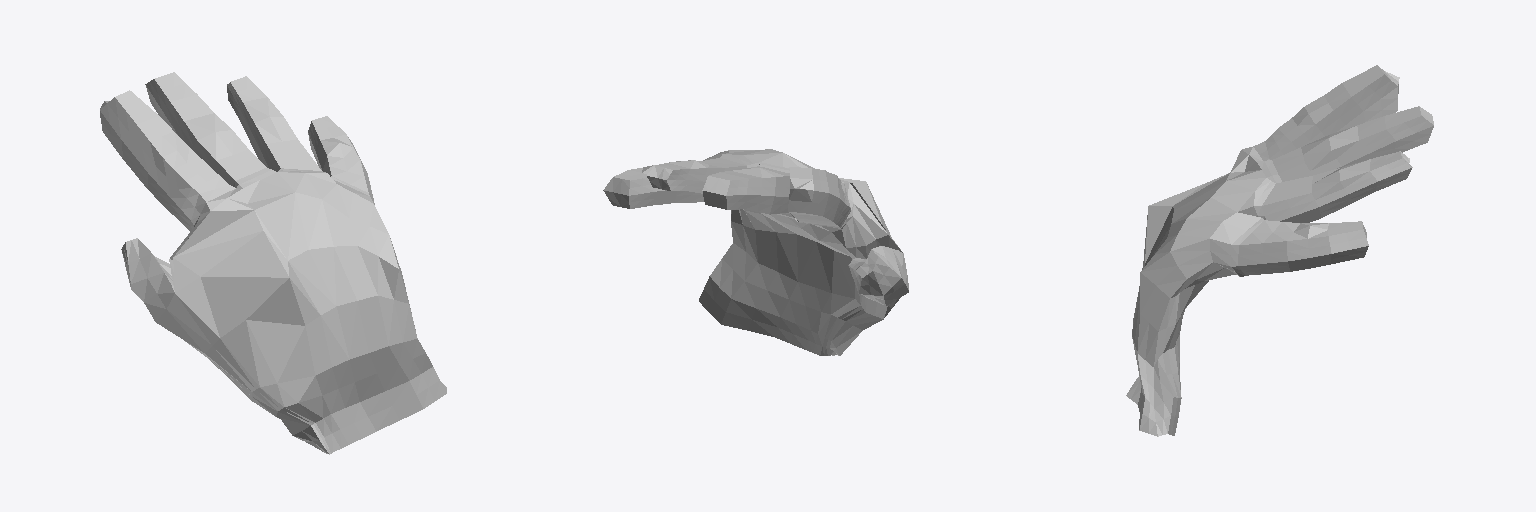
File: flexion0031.obj
The picture shows the model from 3 angles: view 1: azimuth 30°, elevation 25°; view 2: azimuth 150°, elevation 25°; view 3: azimuth 270°, elevation 25°; orthographic projection.
Visible parts, largest first — view 1: Hand; view 2: Hand; view 3: Hand.
Part boxes in pixels (x1,y1,x2,y2): Hand: (100, 72, 446, 454); Hand: (603, 149, 908, 355); Hand: (1126, 65, 1433, 436).
Size of the model in its own units: 3.27 by 3.52 by 3.37.